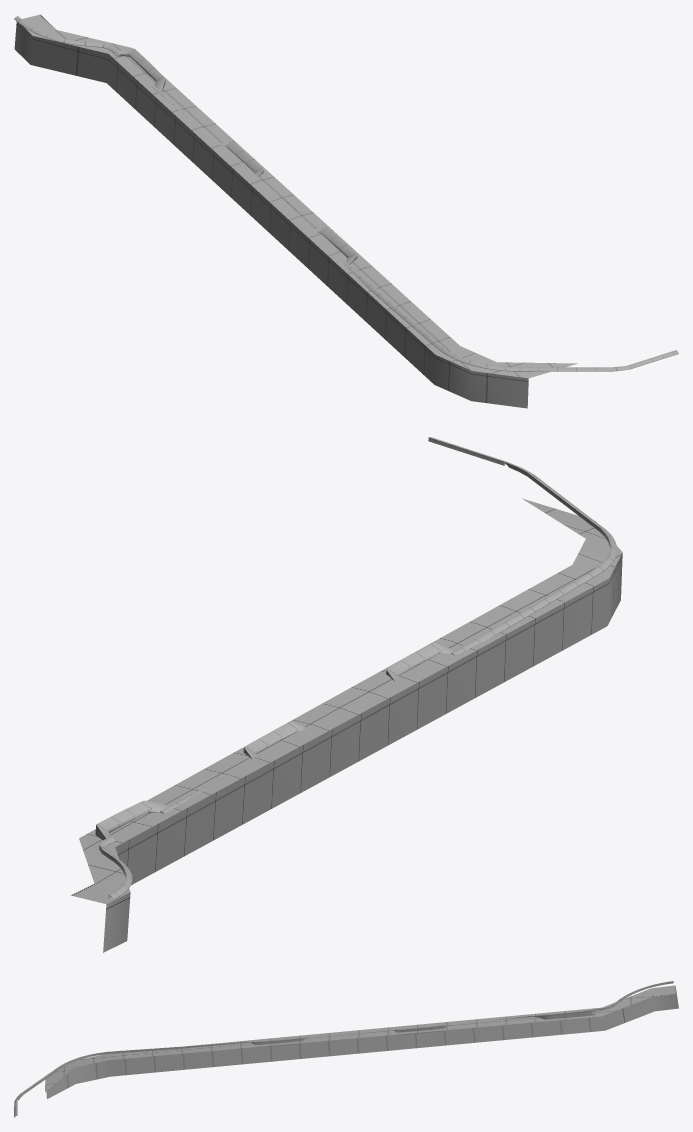
The model's file is STA20_58.FBX.
3 views of the same model, one above another, from view 1: azimuth 30°, elevation 25°; view 2: azimuth 150°, elevation 25°; view 3: azimuth 270°, elevation 25° (orthographic). The views are drawn at different scales.
Visible parts, largest first — view 1: STA20_58; view 2: STA20_58; view 3: STA20_58.
Boxes of the visible parts, x1,y1,x2,y2 form: STA20_58: [14, 14, 678, 408]; STA20_58: [70, 437, 622, 952]; STA20_58: [14, 981, 678, 1117].
Size of the model in its own units: 71.75 by 33.54 by 242.
